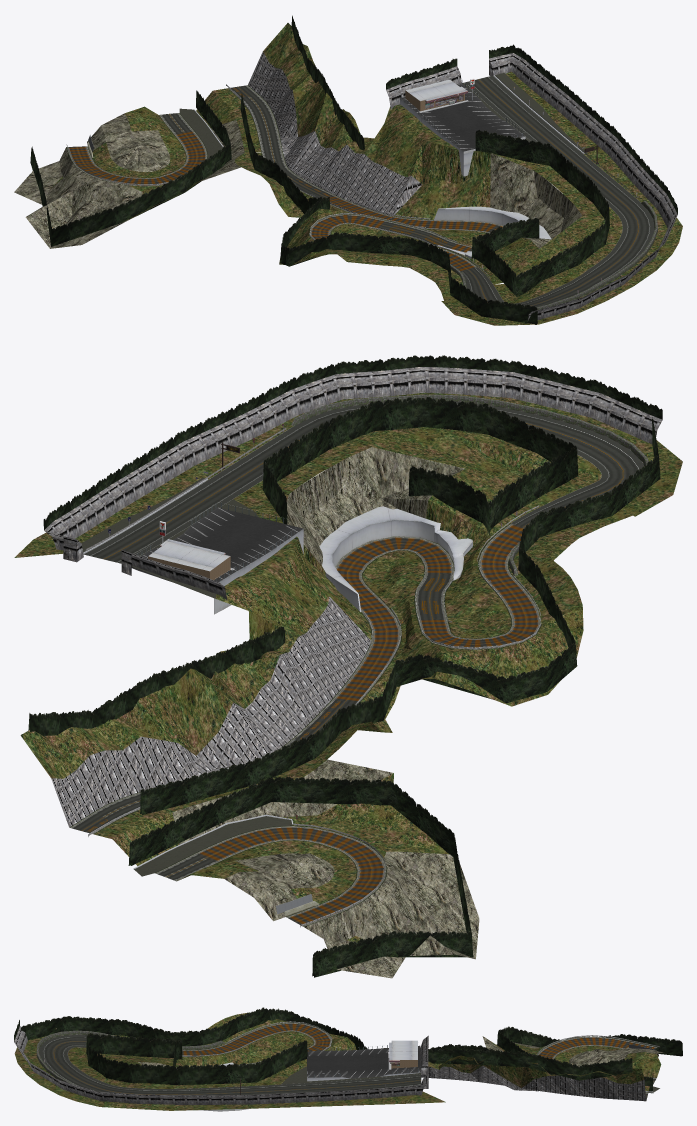
The model's file is okaru4.glb.
The picture shows the model from 3 angles, top to bottom: view 1: azimuth 30°, elevation 25°; view 2: azimuth 150°, elevation 25°; view 3: azimuth 270°, elevation 25°; orthographic projection. The views are drawn at different scales.
Parts seen in each view (by area): view 1: okaru4; view 2: okaru4; view 3: okaru4.
Part boxes in pixels (x1=…): okaru4: x1=14, y1=15, x2=682, y2=325; okaru4: x1=14, y1=355, x2=682, y2=978; okaru4: x1=14, y1=1007, x2=682, y2=1111.
Bounding box in the file's own units: 171 × 67.26 × 277.
24 materials, 23 textured.
